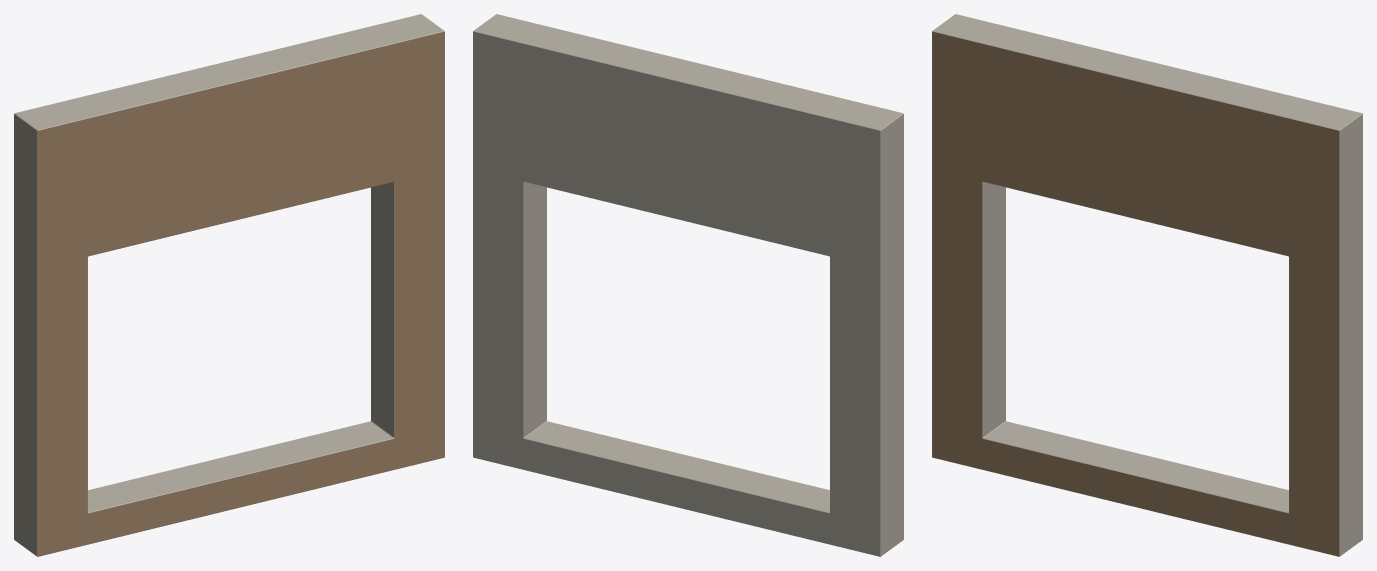
The model's file is arch_wall_ext_shop_w400_h400.glb.
The picture shows the model from 3 angles, left to right: view 1: azimuth 30°, elevation 25°; view 2: azimuth 150°, elevation 25°; view 3: azimuth 330°, elevation 25°; orthographic projection.
Visible parts, largest first — view 1: Wall; view 2: Wall; view 3: Wall.
Part boxes in pixels (box(x1,y1,x2,y2)): Wall: box(14, 14, 444, 556); Wall: box(473, 14, 903, 556); Wall: box(932, 14, 1362, 556).
Size of what is drawn, in the model's own units: 4 by 4 by 0.4.
